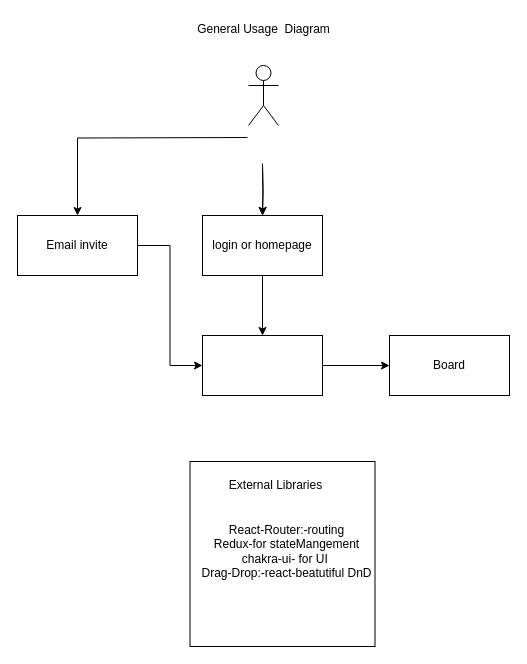
Some shapes in this 527 by 664 pixel diagram are drawn without their labels. Each missing label, with the centre of its shape:
"Actor" goes at point (263, 95).
"DashBoard" goes at point (262, 365).
